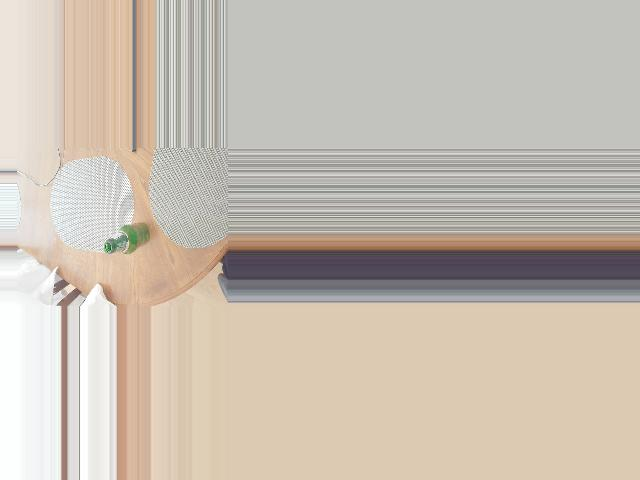beer: (104, 223, 150, 254)
